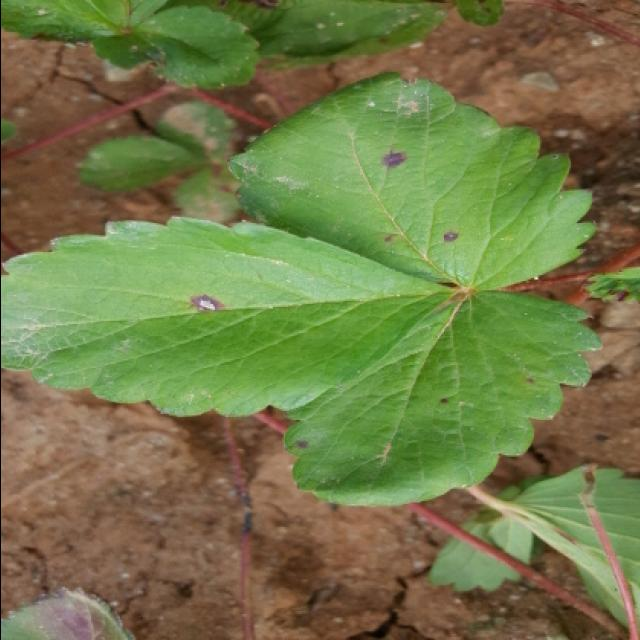Leaf Spot: (2, 214, 466, 418), (225, 69, 598, 290), (282, 290, 604, 508), (172, 162, 239, 226)
